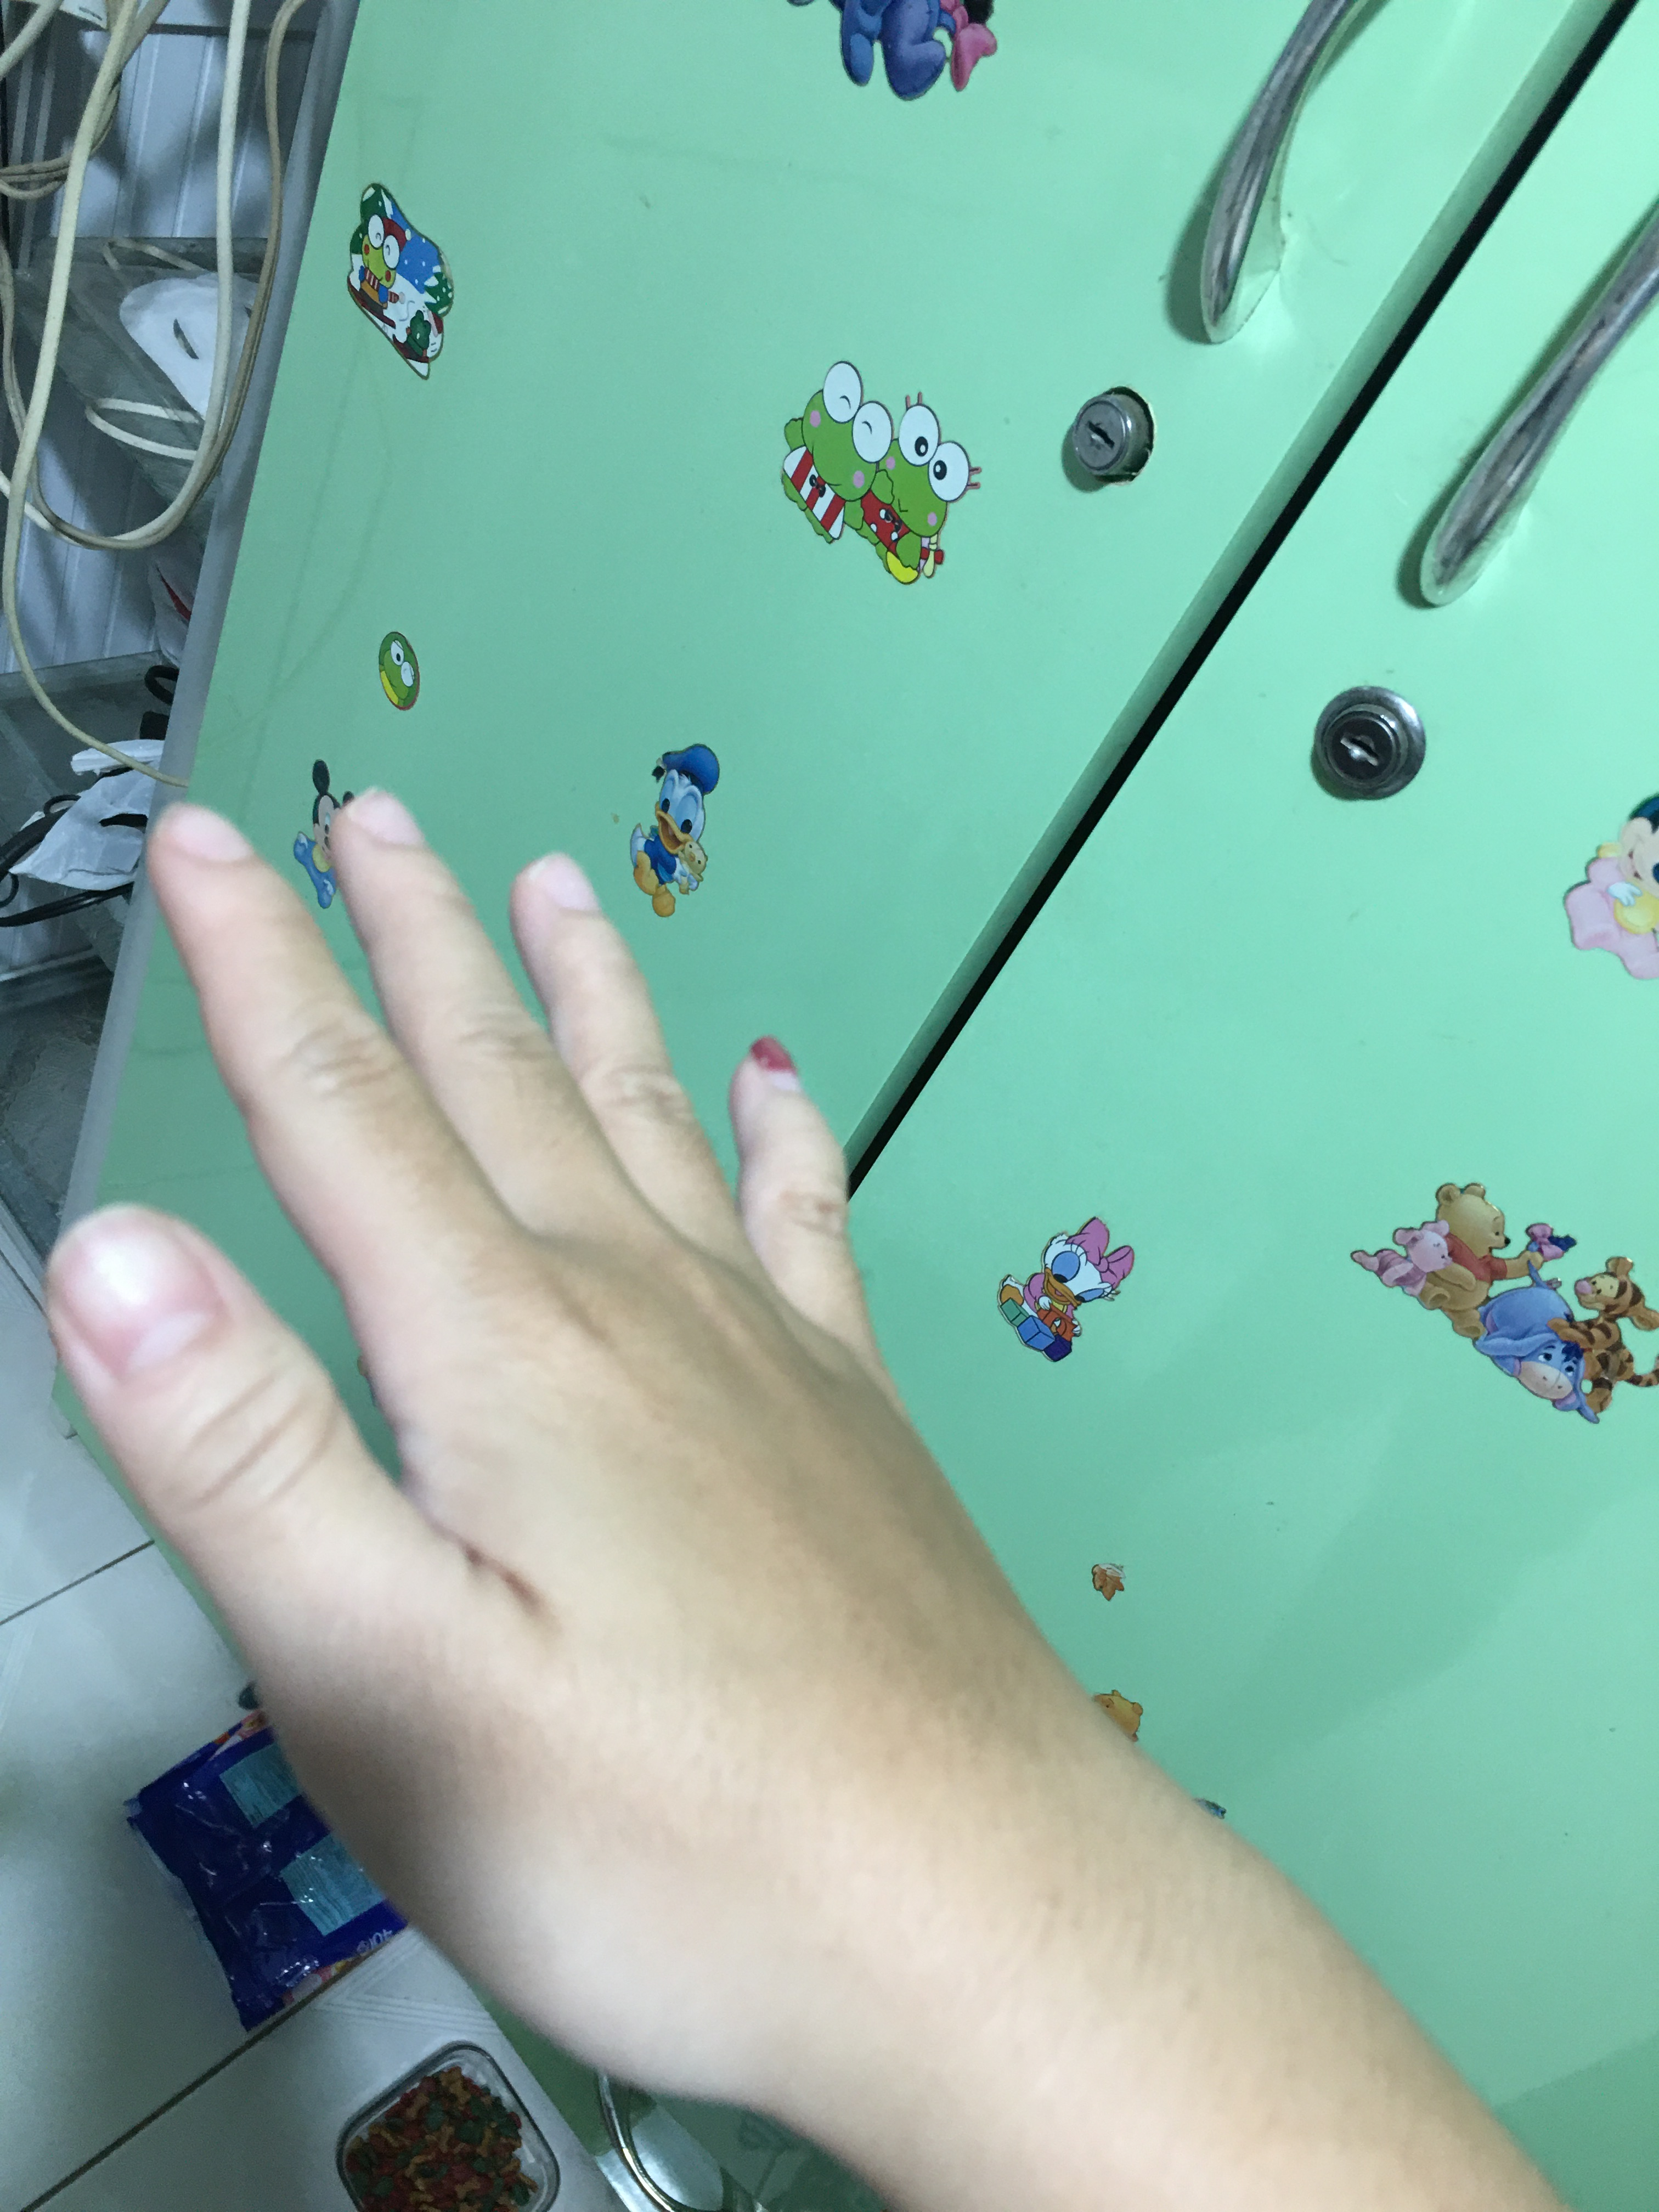nails: (45, 1191, 235, 1399), (333, 775, 451, 876), (521, 834, 627, 937), (152, 787, 263, 883), (744, 1021, 823, 1108)
